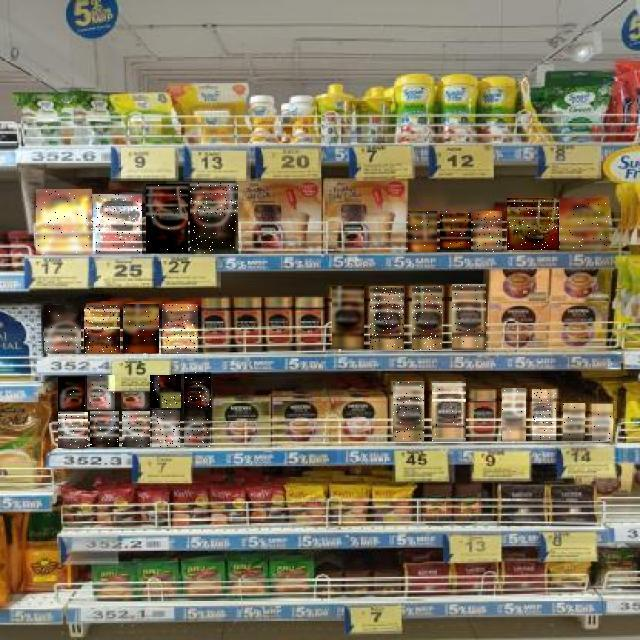Coffee: (36, 189, 92, 254), (190, 184, 238, 254), (92, 194, 142, 254), (146, 184, 188, 253), (507, 198, 559, 250), (560, 198, 609, 251), (452, 284, 486, 350), (370, 287, 404, 350), (432, 382, 466, 442), (333, 286, 365, 349), (412, 287, 442, 351), (393, 382, 424, 441), (44, 305, 81, 353), (162, 304, 198, 353), (123, 304, 159, 353), (85, 305, 121, 353), (502, 388, 526, 441), (440, 212, 471, 252), (533, 389, 557, 440), (473, 211, 502, 252), (408, 211, 437, 252), (58, 412, 88, 448), (88, 375, 118, 410), (90, 411, 119, 447), (152, 410, 180, 447), (150, 375, 181, 408), (184, 408, 210, 447), (122, 411, 150, 447), (184, 372, 211, 408), (58, 377, 85, 411), (563, 404, 585, 440), (592, 404, 613, 441)
